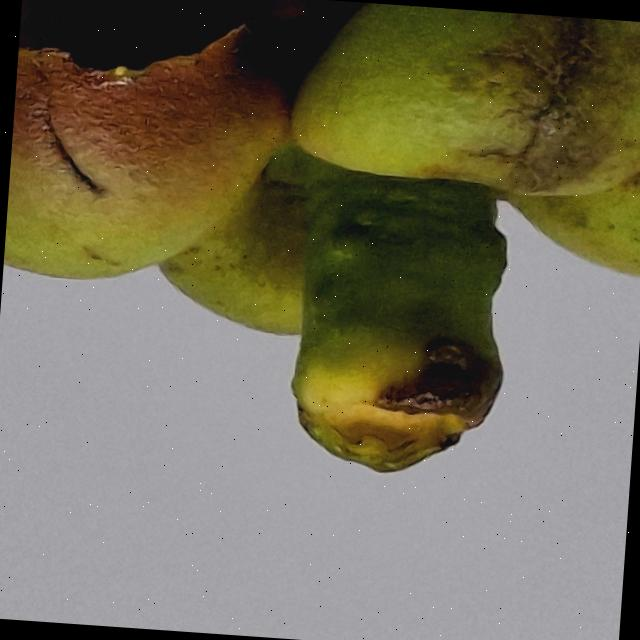mangosteen: (0, 0, 640, 526)
